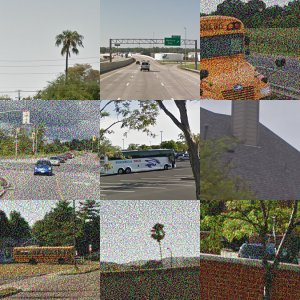汽車: (223, 22, 300, 70), (122, 137, 167, 192), (234, 237, 269, 263), (250, 126, 281, 151), (221, 120, 235, 134)
腳踏車: (107, 19, 126, 41), (12, 107, 36, 120), (54, 105, 74, 116)
行人穿越道: (1, 122, 101, 179), (2, 34, 98, 83), (8, 250, 104, 299)
